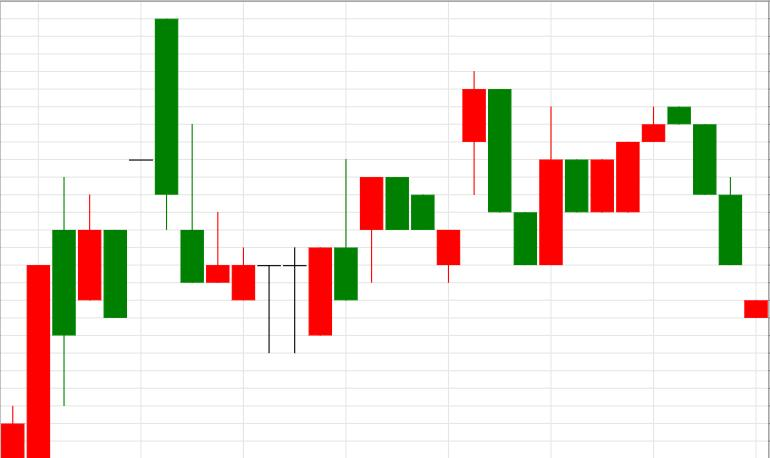three_black_crows_fall: (590, 107, 742, 265)
